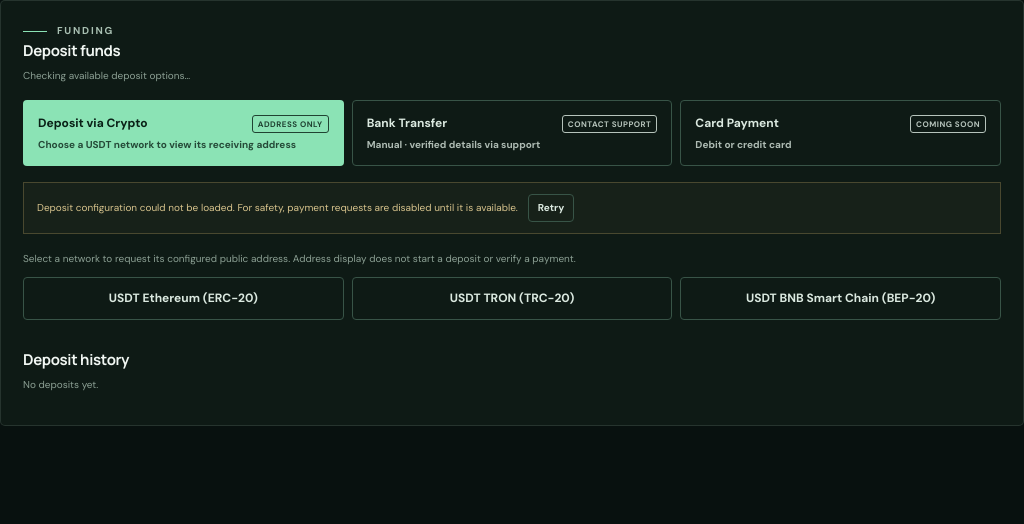
Scenario: crypto network selection › rejects malformed USDT Ethereum (ERC-20) addresses before display or QR generation
Click the button "USDT Ethereum (ERC-20)": x=183, y=299 [23, 277, 344, 320]
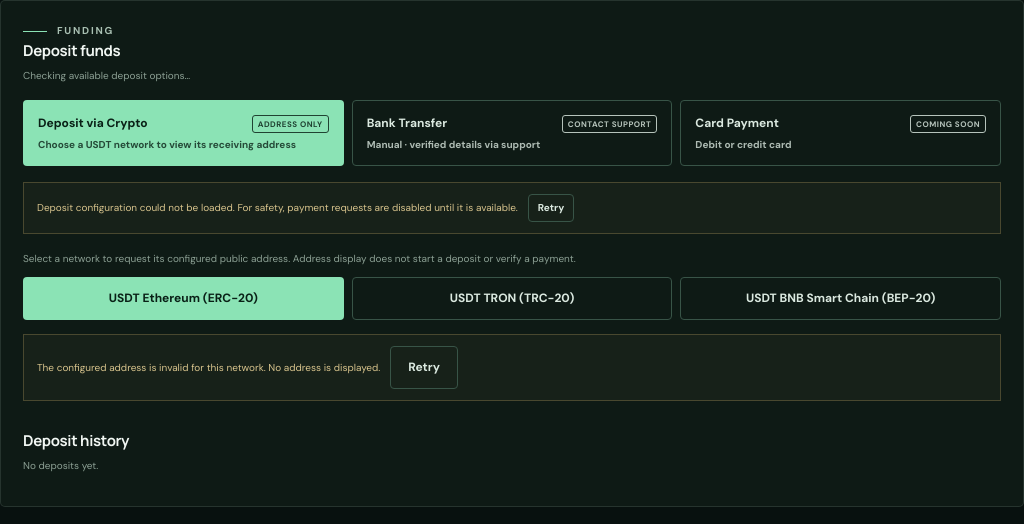
Now the text "configured address is invalid for this network" is shown, box [37, 361, 380, 374]
